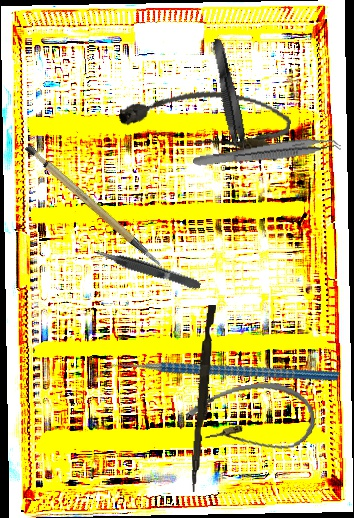Cannula: (116, 75, 294, 163), (182, 375, 319, 464)
Chopper: (95, 288, 341, 463)
Pusher: (189, 304, 217, 493)
Scalpel Handle: (22, 129, 163, 286)
Tissue Forceps: (192, 132, 342, 176), (208, 37, 253, 165), (93, 244, 203, 294)
